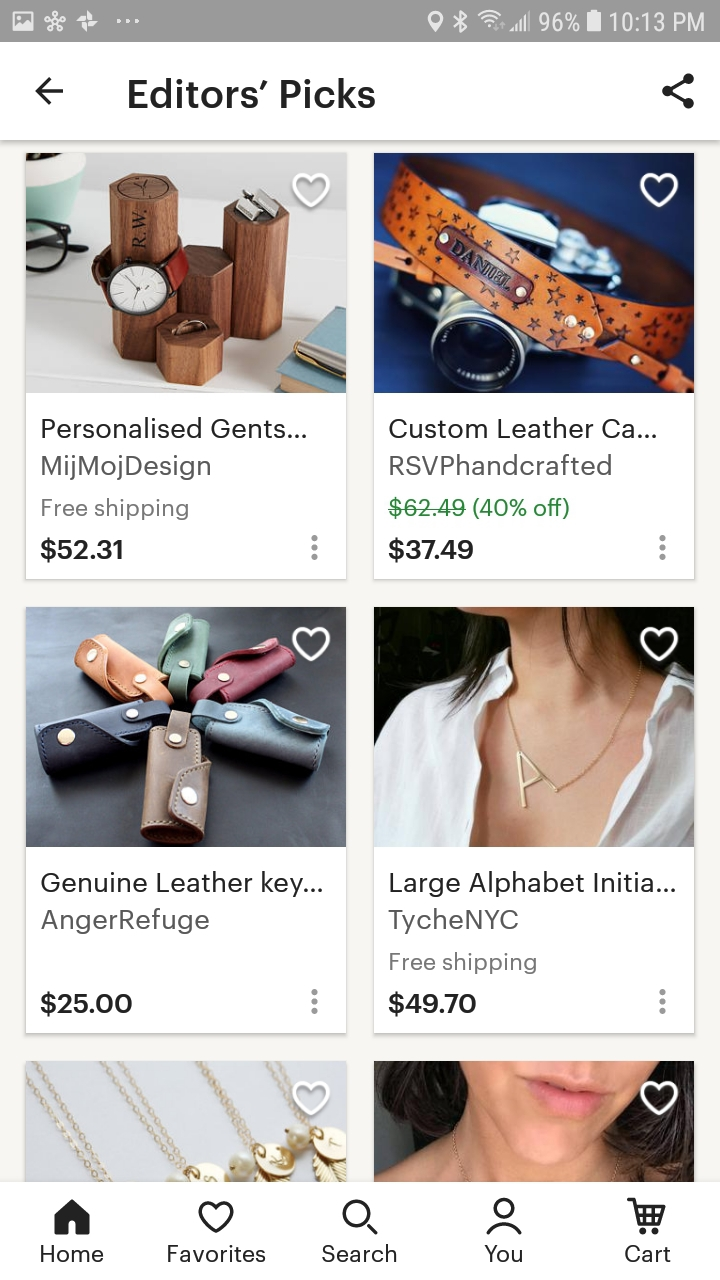Icon: (627, 1197, 666, 1235), (486, 1197, 522, 1236), (639, 173, 679, 208), (342, 1199, 379, 1236), (640, 627, 679, 662), (640, 1080, 679, 1115), (55, 1199, 91, 1235), (292, 174, 330, 208), (293, 627, 331, 661), (293, 1081, 331, 1115), (198, 1200, 235, 1233), (662, 74, 694, 110), (36, 78, 64, 106), (311, 535, 319, 561), (659, 535, 667, 561), (311, 989, 319, 1015), (659, 989, 666, 1014)
Image: (374, 607, 694, 848), (375, 154, 695, 394), (27, 608, 347, 848), (28, 155, 347, 394), (27, 1061, 348, 1182), (374, 1061, 694, 1182)
Text: (390, 870, 676, 898), (42, 870, 324, 898), (129, 78, 376, 109), (389, 418, 657, 440), (42, 417, 307, 439), (390, 454, 612, 476), (41, 907, 210, 935), (42, 455, 211, 481), (388, 497, 570, 520), (388, 908, 519, 935), (42, 498, 189, 521), (390, 952, 537, 975), (389, 991, 477, 1018), (42, 991, 133, 1017), (41, 537, 123, 564), (389, 538, 473, 564), (169, 1245, 267, 1263), (322, 1243, 397, 1263), (41, 1244, 104, 1262), (624, 1244, 671, 1263), (484, 1244, 523, 1262)
UpperTaskBar: (1, 1, 720, 43)
